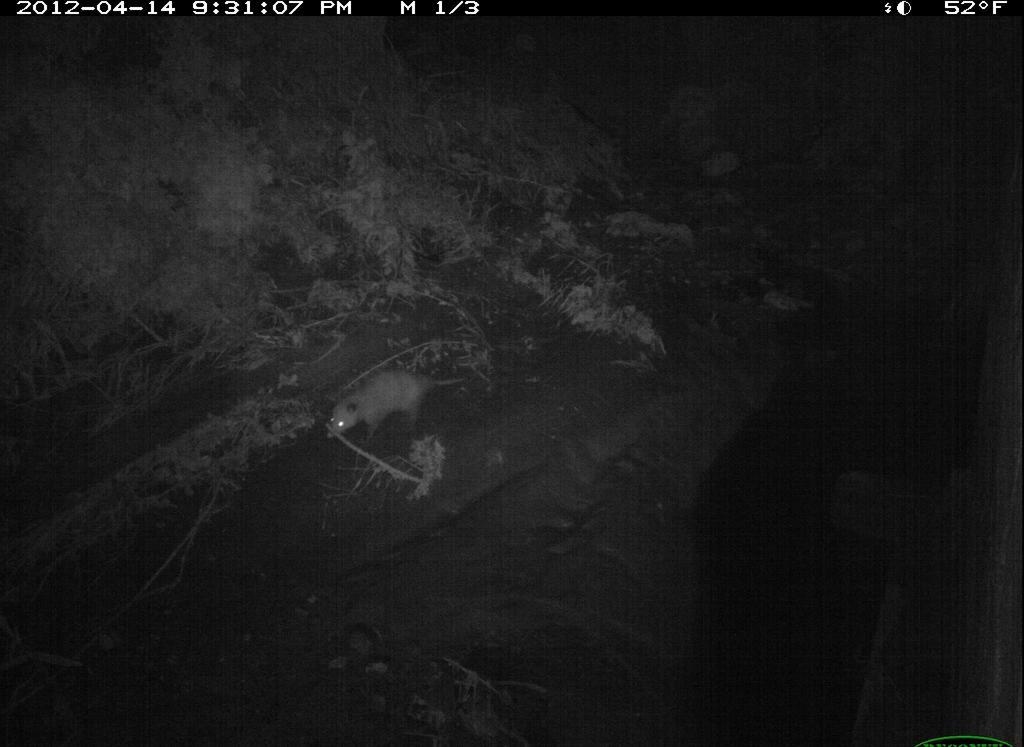opossum: (290, 359, 508, 503)
